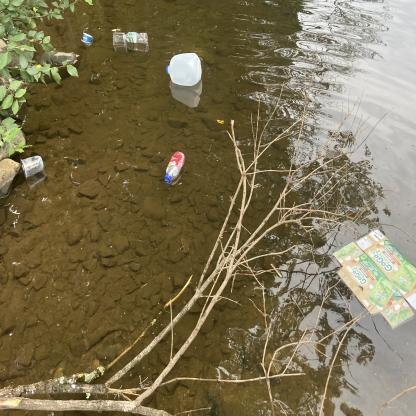trash: (328, 227, 416, 333), (162, 50, 206, 92), (160, 148, 188, 188), (18, 152, 48, 184), (120, 30, 150, 46), (110, 30, 127, 46), (80, 30, 94, 46)
